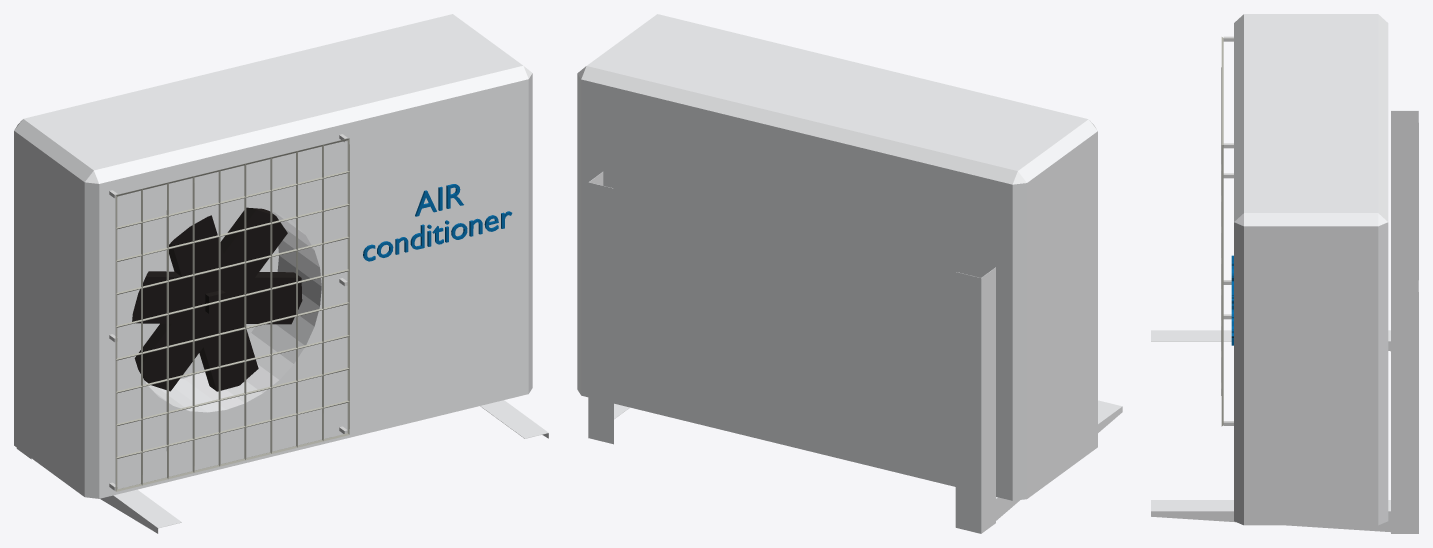
Rendered from conditioner_2.fbx.
The picture shows the model from 3 angles, left to right: view 1: azimuth 30°, elevation 25°; view 2: azimuth 150°, elevation 25°; view 3: azimuth 270°, elevation 25°; orthographic projection. The views are drawn at different scales.
Parts seen in each view (by area): view 1: conditioner_2, screw_2, net, conditioner_22, Text; view 2: conditioner_2, conditioner_22; view 3: conditioner_2, conditioner_22, net, Cube.015.
Boxes of the visible parts, left/top/right/bottom form: conditioner_2: left=14, top=14, right=532, bottom=498; screw_2: left=132, top=207, right=302, bottom=391; net: left=115, top=138, right=349, bottom=491; conditioner_22: left=16, top=400, right=548, bottom=533; Text: left=363, top=184, right=512, bottom=261; conditioner_2: left=577, top=14, right=1097, bottom=500; conditioner_22: left=588, top=172, right=1122, bottom=533; conditioner_2: left=1234, top=14, right=1388, bottom=525; conditioner_22: left=1151, top=110, right=1418, bottom=533; net: left=1221, top=37, right=1223, bottom=426; Cube.015: left=1223, top=36, right=1233, bottom=425.
Bounding box in the file's own units: 0.78 × 0.5814 × 0.4255.
